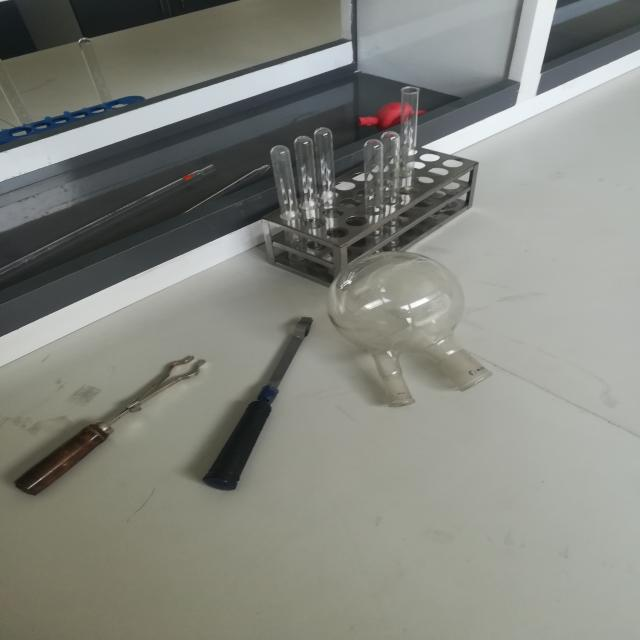Round_Bottom_Flask_Borosilicate_Glass_2_Neck: (325, 212, 523, 436)
TestTube_Holder: (3, 331, 213, 543), (162, 284, 320, 507)
